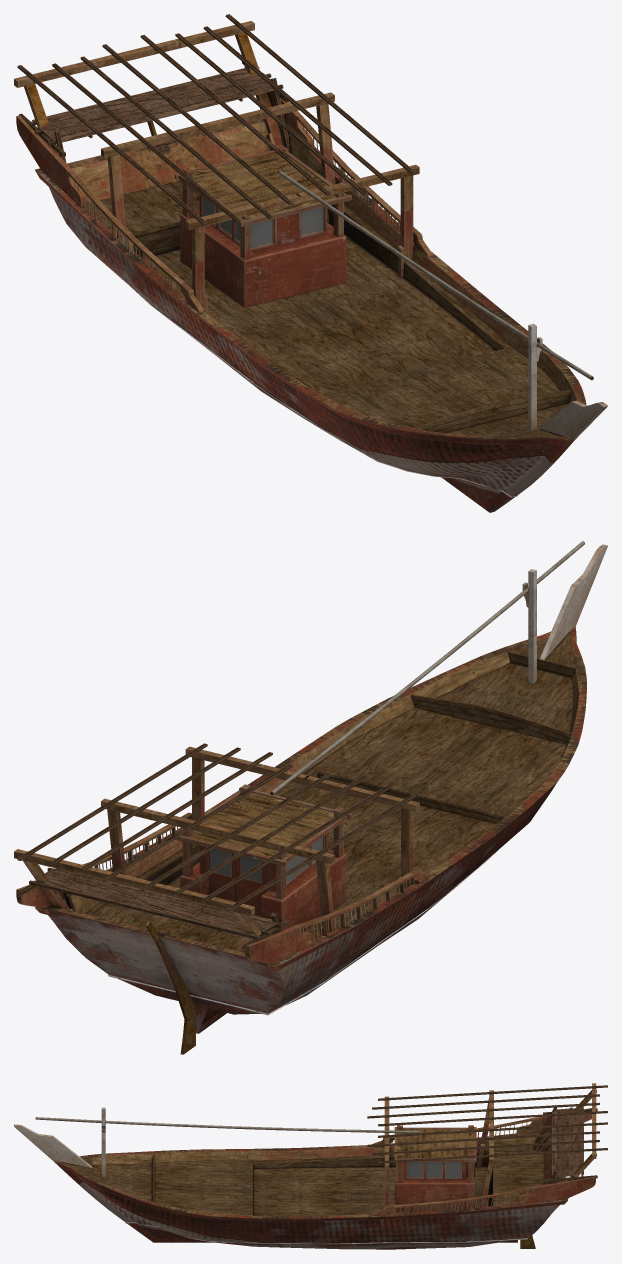
File: Boat03.dae
The picture shows the model from 3 angles, top to bottom: view 1: azimuth 30°, elevation 25°; view 2: azimuth 150°, elevation 25°; view 3: azimuth 270°, elevation 25°; orthographic projection. The views are drawn at different scales.
Parts seen in each view (by area): view 1: Base; view 2: Base; view 3: Base.
Part boxes in pixels (x1,y1,x2,y2): Base: [14, 14, 607, 512]; Base: [14, 541, 607, 1054]; Base: [14, 1083, 607, 1249].
Bounding box in the file's own units: 674 × 2319 × 602.
Materials: 1 (1 with a texture image).
